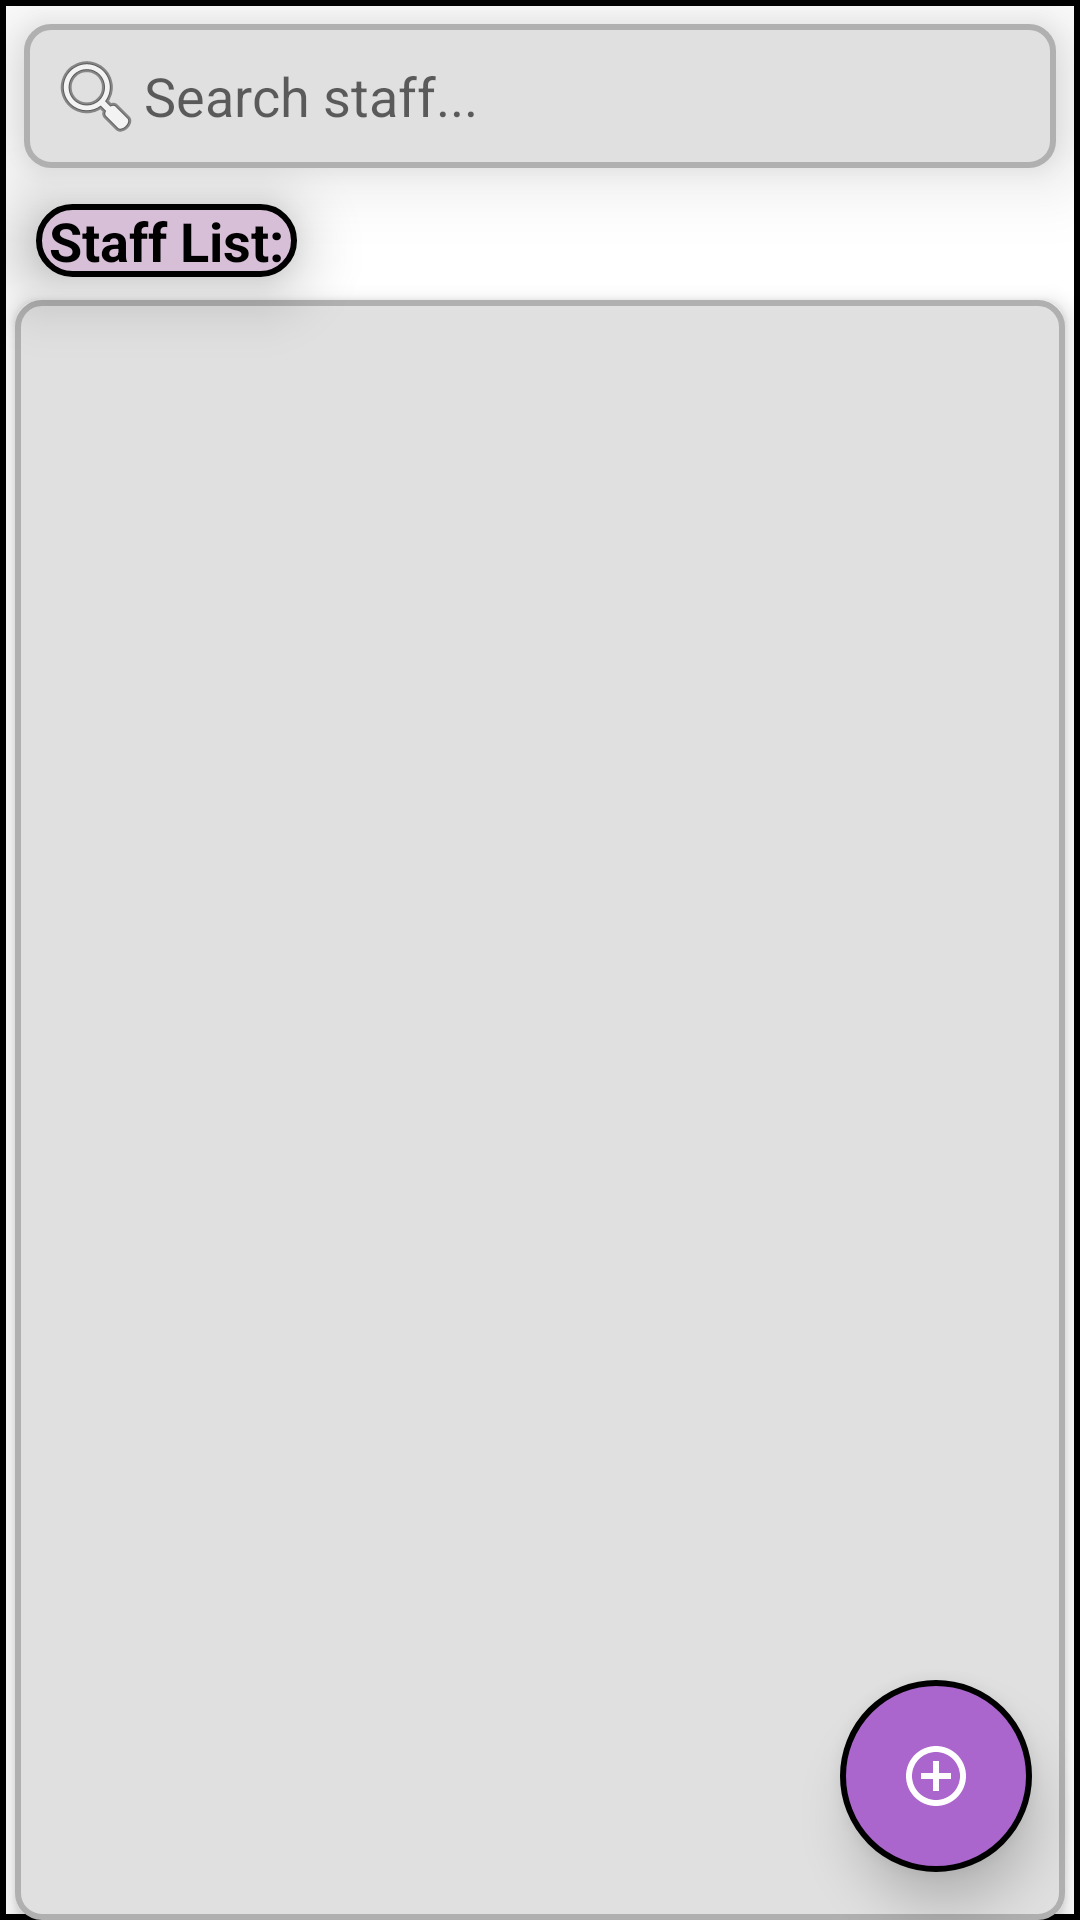

Icons on this 1080x1920 Android screen, each with the point to tap as point (x, y):
Add Staff: point (936, 1776)
